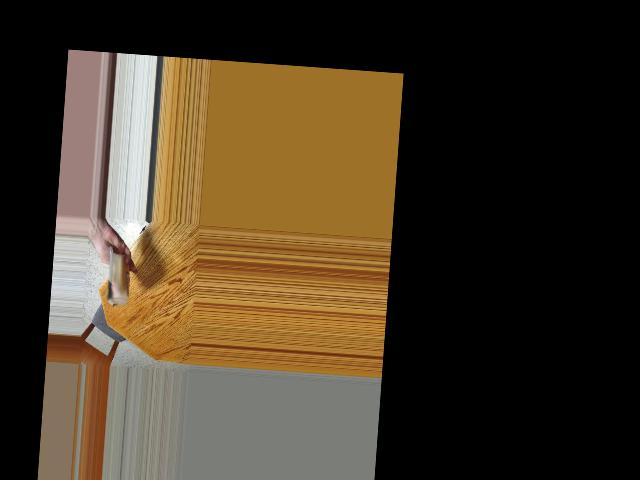cheese: (95, 249, 133, 302)
